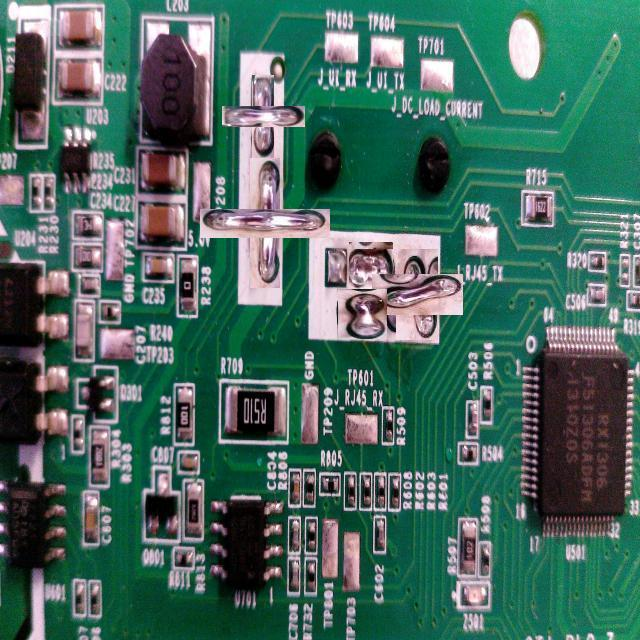Short_circuit: (225, 183, 305, 263), (384, 261, 451, 328), (237, 90, 290, 143), (337, 289, 387, 339), (348, 242, 393, 296)
